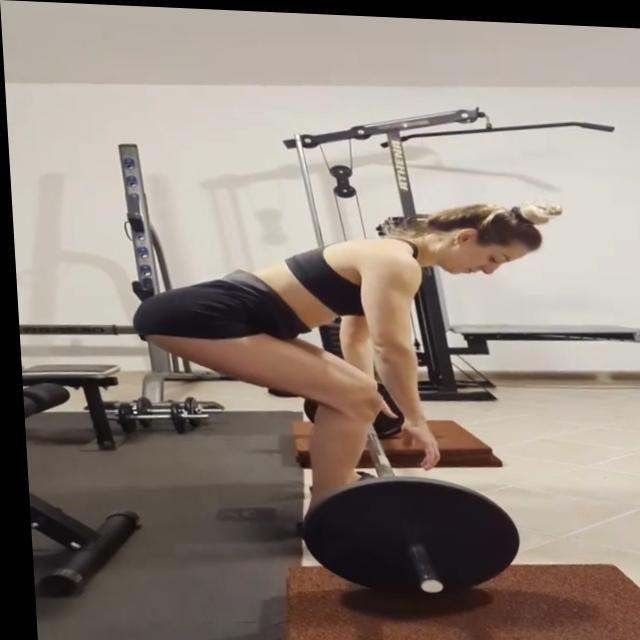barbell: (278, 466, 524, 609)
